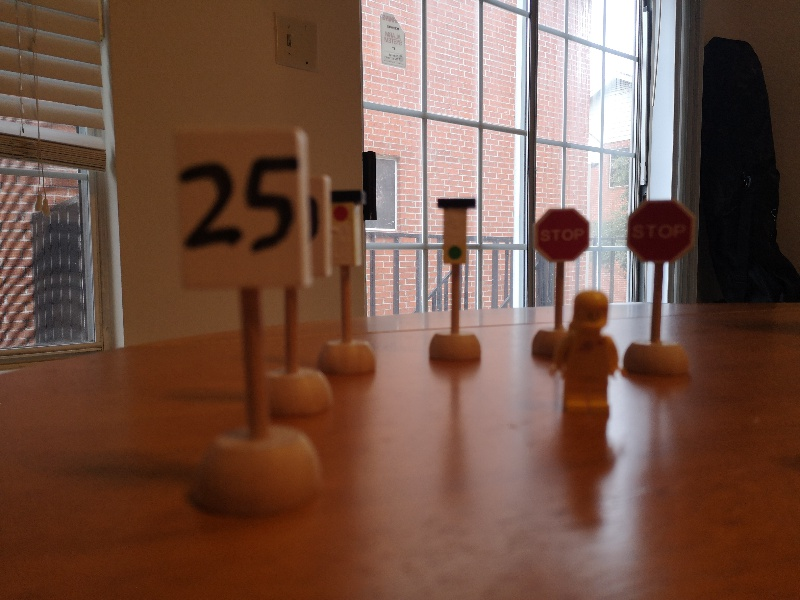Green Traffic Light: (435, 198, 475, 266)
Person: (547, 291, 626, 415)
Red Traffic Light: (328, 190, 365, 271)
Speed Limit 25: (170, 127, 312, 291)
Stop Sign: (626, 199, 697, 266), (534, 203, 594, 269)
